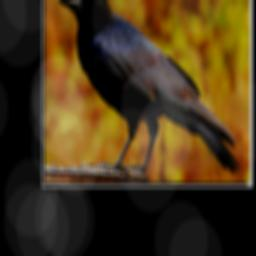Crow: (57, 0, 242, 174)
